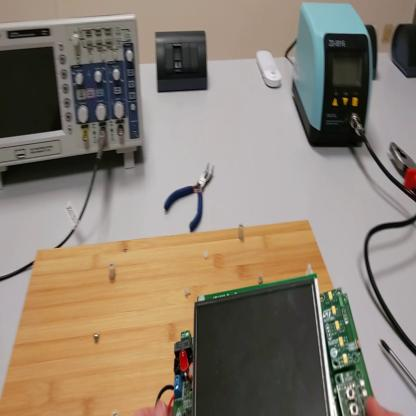hand: (121, 401, 171, 415), (367, 396, 403, 415)
low voltage board: (159, 273, 375, 416)
oscilloscope: (2, 14, 146, 177)
pliers: (164, 164, 217, 231), (389, 140, 415, 194)
screwdriver-: (382, 341, 416, 387)
socket: (390, 27, 415, 77), (369, 24, 378, 82)
welder station: (294, 6, 374, 148)
working area: (1, 219, 335, 413)
